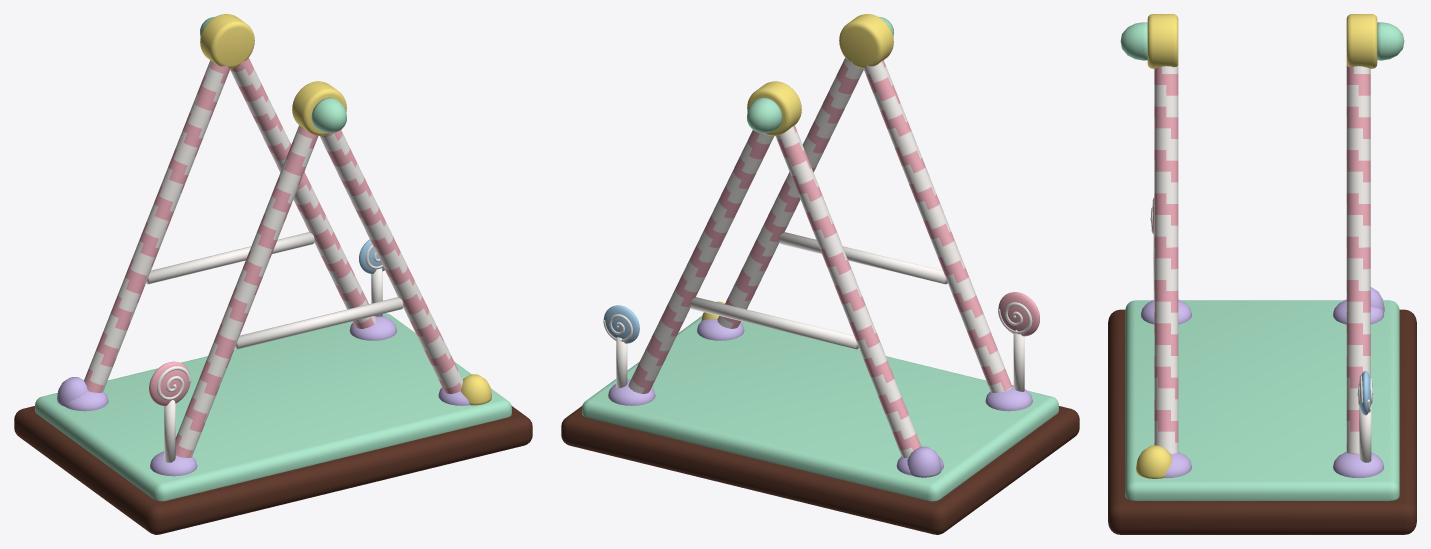
File: ferris_wheel_stand.glb
3 views of the same model, side by side, from view 1: azimuth 30°, elevation 25°; view 2: azimuth 150°, elevation 25°; view 3: azimuth 270°, elevation 25° (orthographic). The views are drawn at different scales.
Visible parts, largest first — view 1: ferris_wheel_stand; view 2: ferris_wheel_stand; view 3: ferris_wheel_stand.
Boxes of the visible parts, bbox=[...] form: ferris_wheel_stand: bbox=[14, 14, 532, 534]; ferris_wheel_stand: bbox=[561, 14, 1079, 534]; ferris_wheel_stand: bbox=[1108, 14, 1416, 534].
Bounding box in the file's own units: 5.6 × 5.42 × 3.6.
